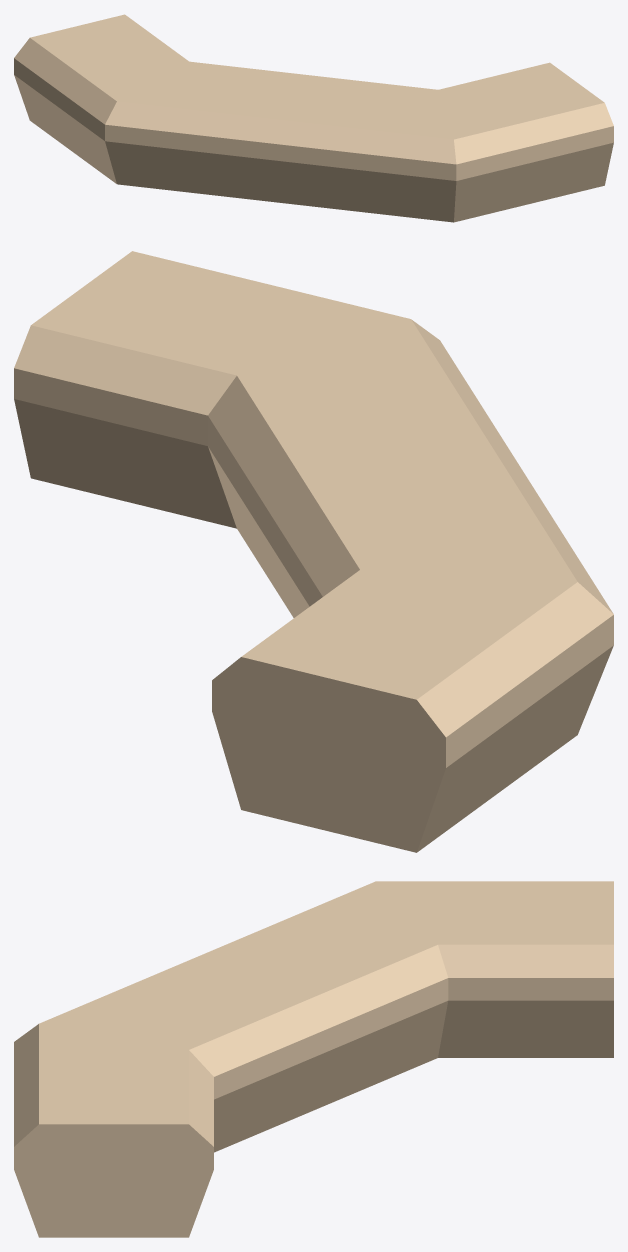
Rendered from temple_Wall_Curved_Small_Top.glb.
The picture shows the model from 3 angles, top to bottom: view 1: azimuth 30°, elevation 25°; view 2: azimuth 150°, elevation 25°; view 3: azimuth 270°, elevation 25°; orthographic projection. The views are drawn at different scales.
Parts seen in each view (by area): view 1: object1; view 2: object1; view 3: object1.
Part boxes in pixels (box(x1,y1,x2,y2)): object1: box(14, 14, 613, 222); object1: box(14, 251, 613, 852); object1: box(14, 881, 613, 1237).
Bounding box in the file's own units: 1.2 × 0.25 × 1.2.
